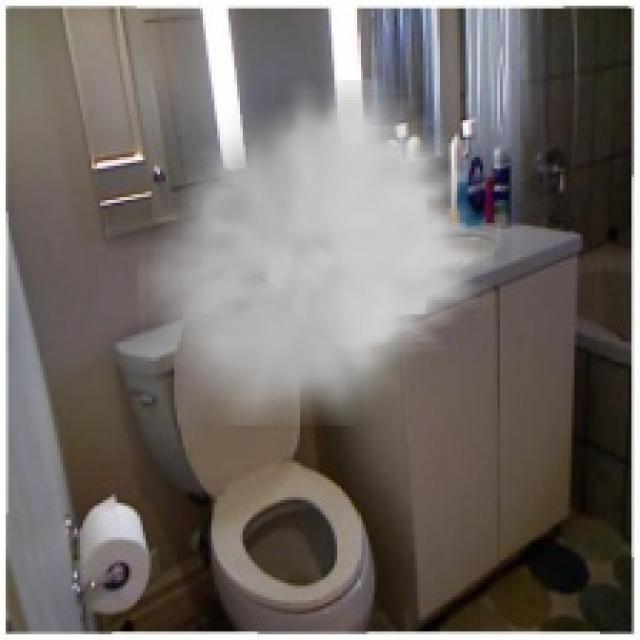Smoke: (137, 80, 494, 426)
